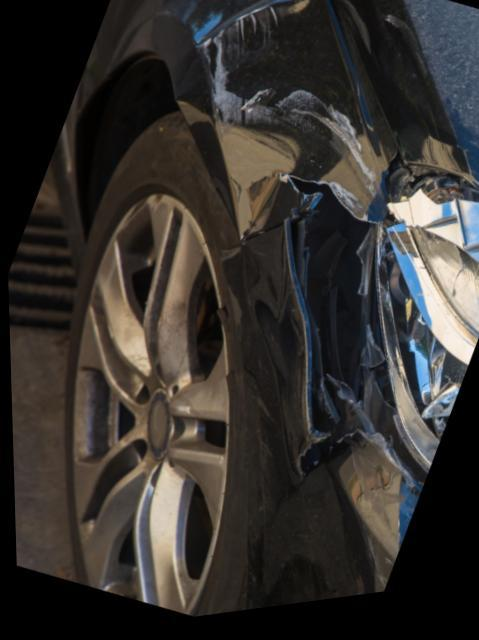crack: (289, 443, 348, 488), (283, 181, 331, 206)
dent: (210, 0, 391, 191)
lamp broken: (319, 176, 479, 493)
scratch: (345, 444, 410, 603)
